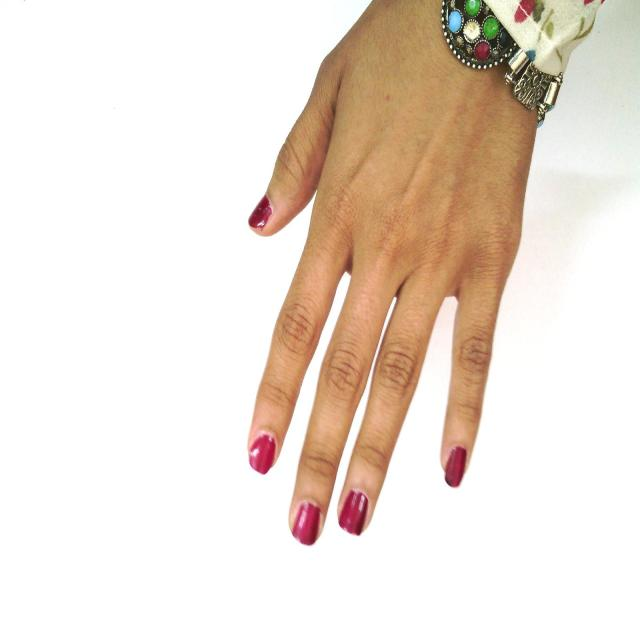hand: (243, 80, 510, 546)
